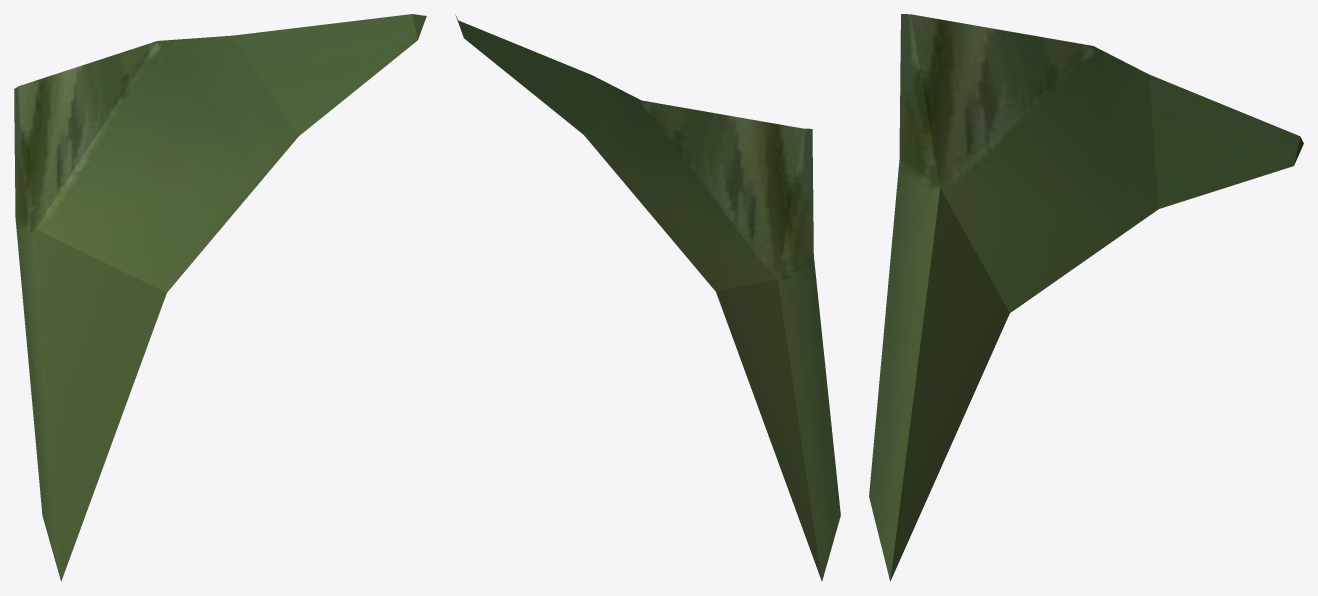
3 views of the same model, side by side, from view 1: azimuth 30°, elevation 25°; view 2: azimuth 150°, elevation 25°; view 3: azimuth 330°, elevation 25° (orthographic). The views are drawn at different scales.
Size of the model in its own units: 1.37 by 1.62 by 0.2581.
Materials: 1 (1 with a texture image).
